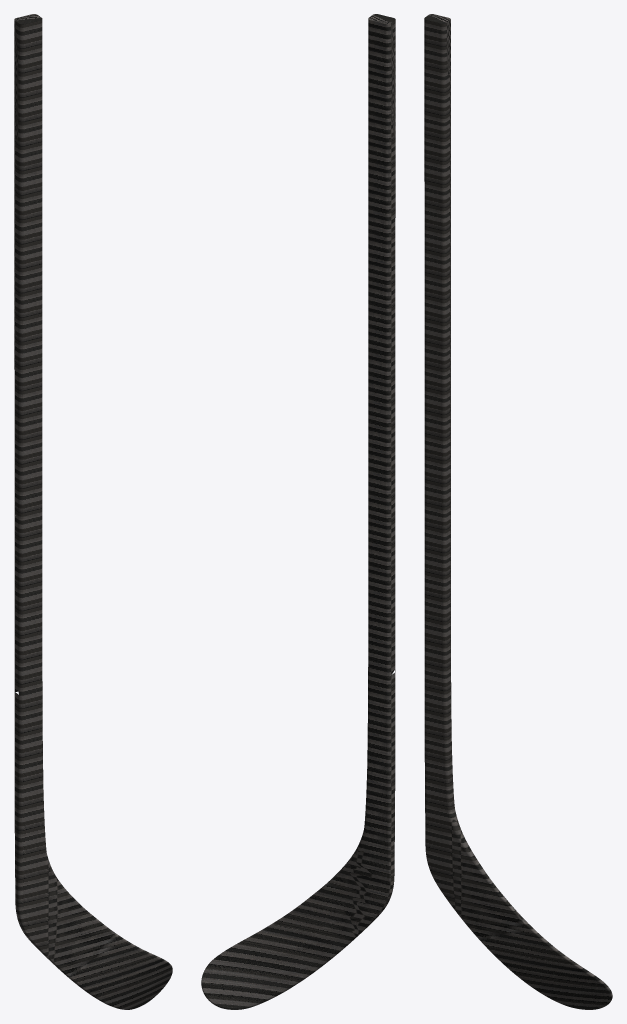
Rendered from P28-1-4-ST-LIE5_5.glb.
3 views of the same model, side by side, from view 1: azimuth 30°, elevation 25°; view 2: azimuth 150°, elevation 25°; view 3: azimuth 330°, elevation 25° (orthographic). The views are drawn at different scales.
Visible parts, largest first — view 1: geometry_0; view 2: geometry_0; view 3: geometry_0.
Part boxes in pixels (left/top/right/bottom): geometry_0: left=14, top=14, right=172, bottom=1009; geometry_0: left=201, top=14, right=395, bottom=1009; geometry_0: left=424, top=14, right=612, bottom=1009.
Size of the model in its own units: 226 by 1271 by 65.81.
Materials: 1 (1 with a texture image).
